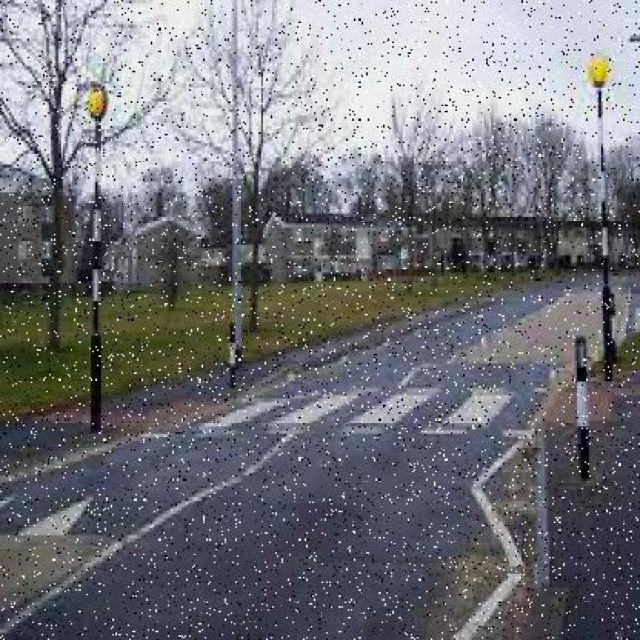crosswalk: (173, 393, 548, 433)
